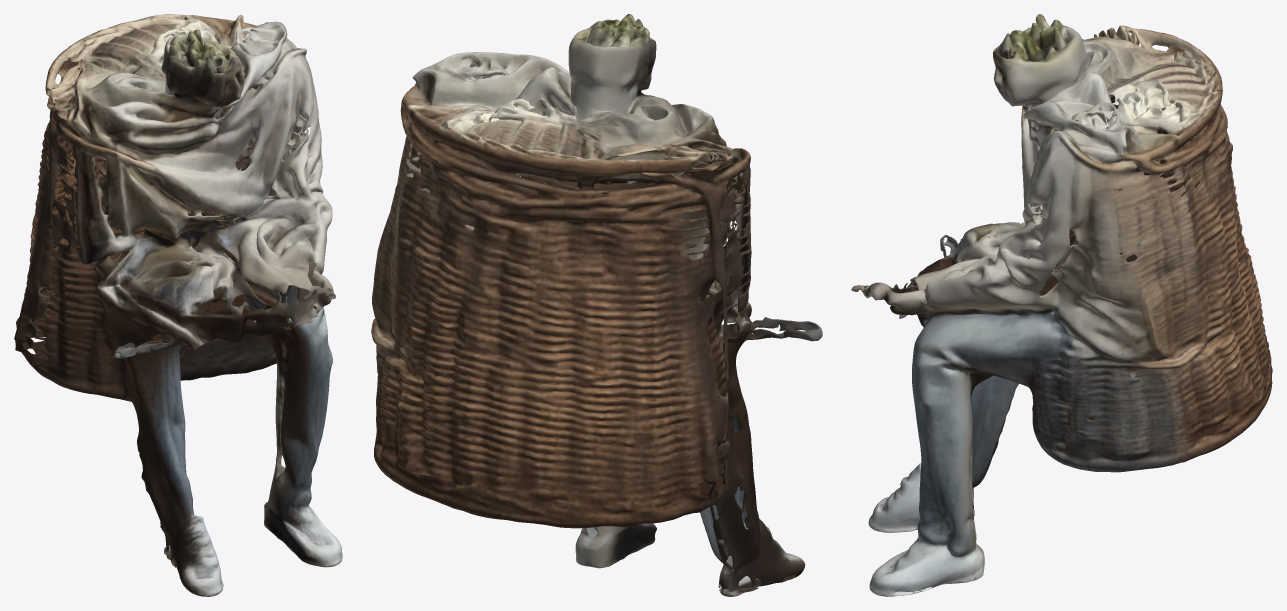
Rendered from tolkning.glb.
3 renders of one model, left to right at view 1: azimuth 30°, elevation 25°; view 2: azimuth 150°, elevation 25°; view 3: azimuth 270°, elevation 25°, orthographic. The views are drawn at different scales.
Parts seen in each view (by area): view 1: geometry_0; view 2: geometry_0; view 3: geometry_0.
Boxes of the visible parts, left/top/right/bottom form: geometry_0: left=14, top=14, right=342, bottom=596; geometry_0: left=371, top=14, right=822, bottom=596; geometry_0: left=851, top=14, right=1272, bottom=596.
Size of the model in its own units: 0.2881 by 0.4818 by 0.3445.
Materials: 1 (1 with a texture image).
